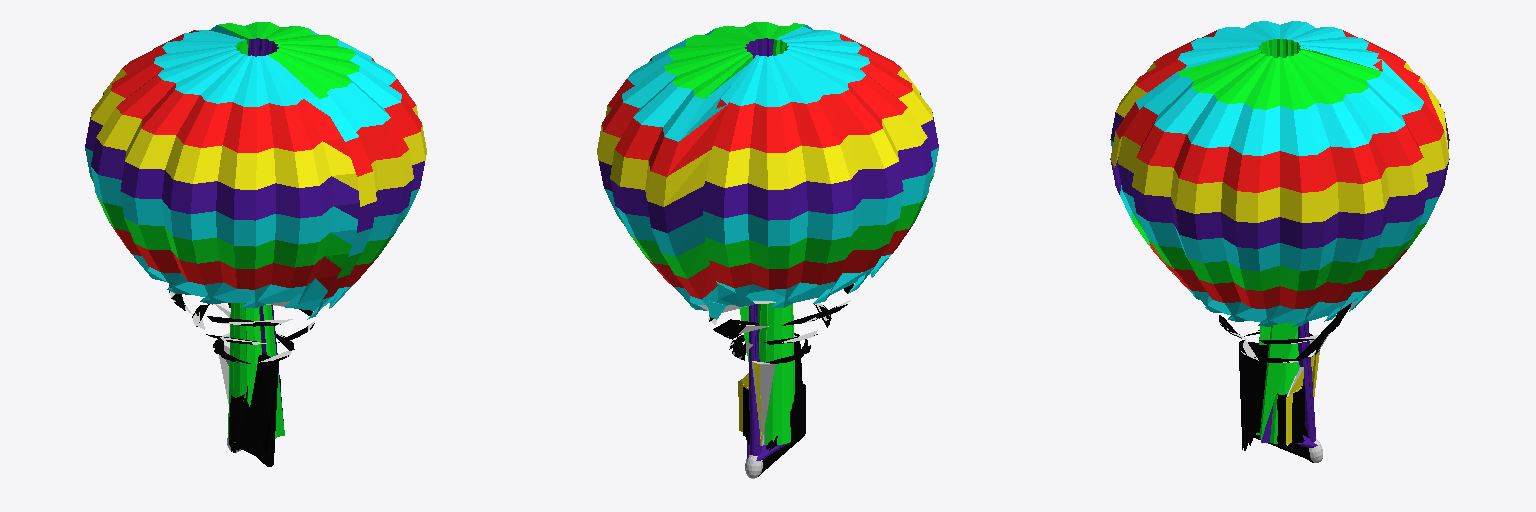
Rendered from balloon.obj.
3 views of the same model, side by side, from view 1: azimuth 30°, elevation 25°; view 2: azimuth 150°, elevation 25°; view 3: azimuth 270°, elevation 25° (orthographic).
Parts seen in each view (by area): view 1: Layer_ball011; view 2: Layer_ball011; view 3: Layer_ball011.
Part boxes in pixels (bbox=[...]): Layer_ball011: bbox=[85, 22, 426, 466]; Layer_ball011: bbox=[597, 22, 938, 476]; Layer_ball011: bbox=[1110, 21, 1449, 462].
Bounding box in the file's own units: 487 × 661 × 487.